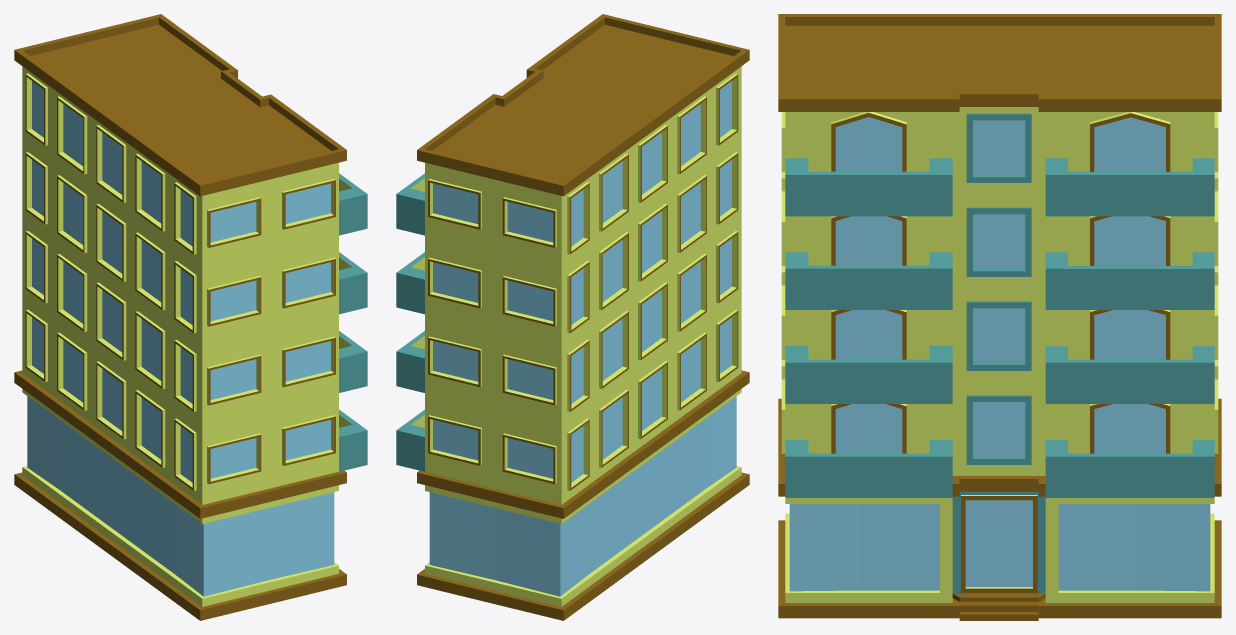
Rendered from building.fbx.
The picture shows the model from 3 angles, left to right: view 1: azimuth 30°, elevation 25°; view 2: azimuth 150°, elevation 25°; view 3: azimuth 270°, elevation 25°; orthographic projection. The views are drawn at different scales.
Parts seen in each view (by area): view 1: Cube, Cube.003, Cube.002, Cube.001, Cube.004; view 2: Cube, Cube.003, Cube.002, Cube.001, Cube.004; view 3: Cube, Cube.002, Cube.003, Cube.001, Cube.004.
Boxes of the visible parts, <box> form: Cube: <box>22,66,367,504</box>; Cube.003: <box>14,14,346,196</box>; Cube.002: <box>22,389,338,606</box>; Cube.001: <box>14,472,346,620</box>; Cube.004: <box>14,370,346,518</box>; Cube: <box>396,66,741,504</box>; Cube.003: <box>417,14,749,196</box>; Cube.002: <box>425,389,741,606</box>; Cube.001: <box>417,472,749,620</box>; Cube.004: <box>417,370,749,518</box>; Cube: <box>781,107,1218,497</box>; Cube.002: <box>785,491,1214,602</box>; Cube.003: <box>778,14,1221,111</box>; Cube.001: <box>778,520,1221,620</box>; Cube.004: <box>778,398,1221,496</box>.
Size of the model in its own units: 502 by 1227 by 950.
